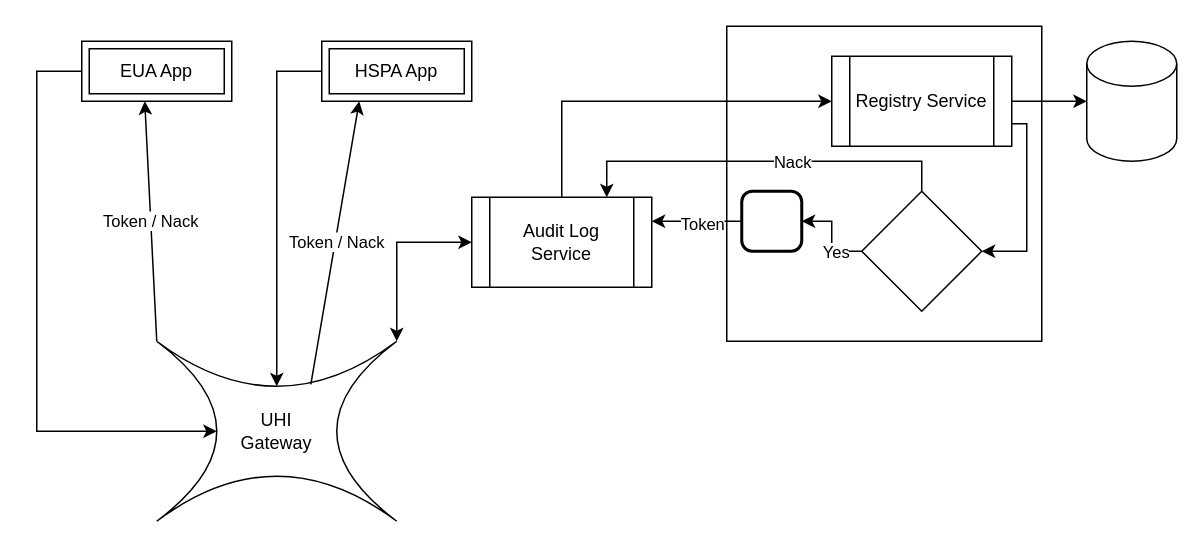
This 1203x548 diagram has some shape labels left out. Here are the shapes that lost their labels. From the top down, the centre of each, then its label:
At [1131,100]: "User Registry".
At [771,220]: "Gen Token".
At [921,250]: "Authenticated".
